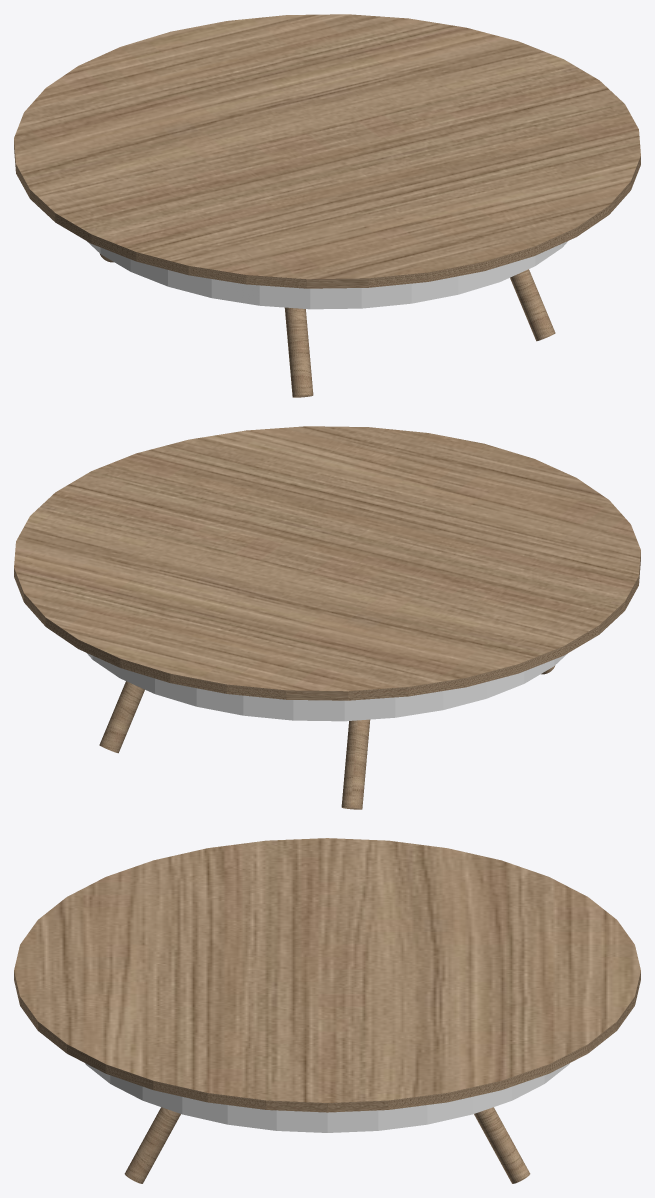
File: mini_table.gltf
The picture shows the model from 3 angles, top to bottom: view 1: azimuth 30°, elevation 25°; view 2: azimuth 150°, elevation 25°; view 3: azimuth 270°, elevation 25°; orthographic projection.
Visible parts, largest first — view 1: Cylinder.001, Cylinder, Cylinder.004, Cylinder.005; view 2: Cylinder.001, Cylinder, Cylinder.003, Cylinder.002; view 3: Cylinder.001, Cylinder, Cylinder.002, Cylinder.005.
Boxes of the visible parts, x1,y1,x2,y2 form: Cylinder.001: (14, 14, 640, 288); Cylinder: (87, 241, 567, 309); Cylinder.004: (284, 307, 313, 397); Cylinder.005: (510, 269, 555, 341); Cylinder.001: (14, 426, 640, 700); Cylinder: (87, 653, 567, 721); Cylinder.003: (341, 719, 370, 809); Cylinder.002: (99, 681, 144, 753); Cylinder.001: (14, 838, 640, 1112); Cylinder: (85, 1063, 569, 1132); Cylinder.002: (474, 1107, 530, 1183); Cylinder.005: (124, 1107, 180, 1183).
Bounding box in the file's own units: 12 × 3.24 × 12.
Materials: 2 (1 with a texture image).
